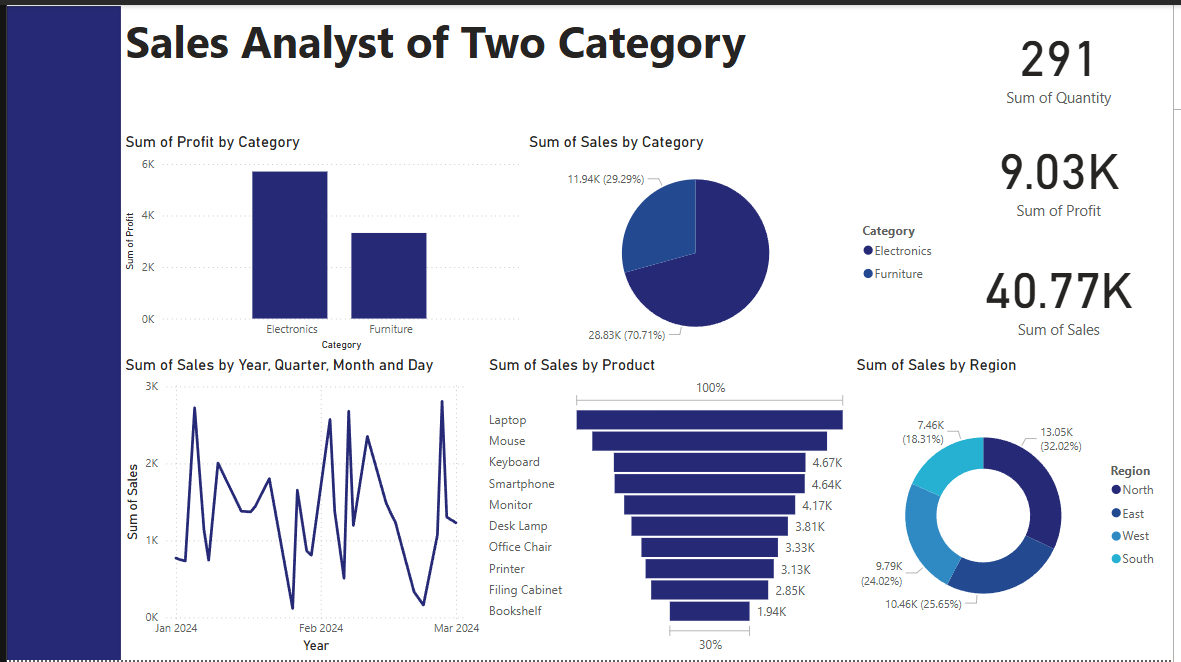

What the dashboard file says about the page in this screenshot:
{"tool":"powerbi","page":{"name":"Page 1","canvas":[1280,720],"ordinal":0},"visuals":[{"type":"donutChart","fields":{"Category":["salesdb salesdata.Region"],"Y":["Sum(salesdb salesdata.Sales)"]},"box":[927.6,384.2,352.7,332.1],"z":0},{"type":"lineChart","fields":{"Category":["salesdb salesdata.Date.Variation.Date Hierarchy.Year","salesdb salesdata.Date.Variation.Date Hierarchy.Quarter","salesdb salesdata.Date.Variation.Date Hierarchy.Month","salesdb salesdata.Date.Variation.Date Hierarchy.Day"],"Y":["Sum(salesdb salesdata.Sales)"]},"box":[124.9,384.2,399.3,332.1],"z":1000},{"type":"funnel","fields":{"Category":["salesdb salesdata.Product"],"Y":["Sum(salesdb salesdata.Sales)"]},"box":[524.2,384.2,403.4,332.1],"z":2000},{"type":"pieChart","fields":{"Category":["salesdb salesdata.Category"],"Y":["Sum(salesdb salesdata.Sales)"]},"box":[568.1,140,461.1,244.3],"z":2001},{"type":"clusteredColumnChart","fields":{"Y":["Sum(salesdb salesdata.Profit)"],"Category":["salesdb salesdata.Category"]},"box":[124.9,140,443.2,244.3],"z":2002},{"type":"card","fields":{"Values":["Sum(salesdb salesdata.Sales)"]},"box":[1029.2,251.1,251.1,133.1],"z":2003},{"type":"card","fields":{"Values":["Sum(salesdb salesdata.Profit)"]},"box":[1029.2,123.5,251.1,127.6],"z":2004},{"type":"card","fields":{"Values":["Sum(salesdb salesdata.Quantity)"]},"box":[1029.2,1.4,251.1,122.1],"z":2005},{"type":"textbox","box":[124.9,1.4,904.3,138.6],"z":2006},{"type":"shape","box":[0,1.4,124.9,719],"z":2007}]}

Visuals, with their boxes in screenshot pixels (x1, y1, x2, y2), scaled from the page's 1280x720 canvas onto the 1181x662 screenshot:
donutChart - salesdb salesdata.Region x Sum(salesdb salesdata.Sales): region(856, 353, 1180, 659)
lineChart - salesdb salesdata.Date.Variation.Date Hierarchy.Year x salesdb salesdata.Date.Variation.Date Hierarchy.Quarter: region(115, 353, 484, 659)
funnel - salesdb salesdata.Product x Sum(salesdb salesdata.Sales): region(484, 353, 856, 659)
pieChart - salesdb salesdata.Category x Sum(salesdb salesdata.Sales): region(524, 129, 950, 353)
clusteredColumnChart - Sum(salesdb salesdata.Profit) x salesdb salesdata.Category: region(115, 129, 524, 353)
card - Sum(salesdb salesdata.Sales): region(950, 231, 1180, 353)
card - Sum(salesdb salesdata.Profit): region(950, 114, 1180, 231)
card - Sum(salesdb salesdata.Quantity): region(950, 1, 1180, 114)
textbox: region(115, 1, 950, 129)
shape: region(0, 1, 115, 661)
